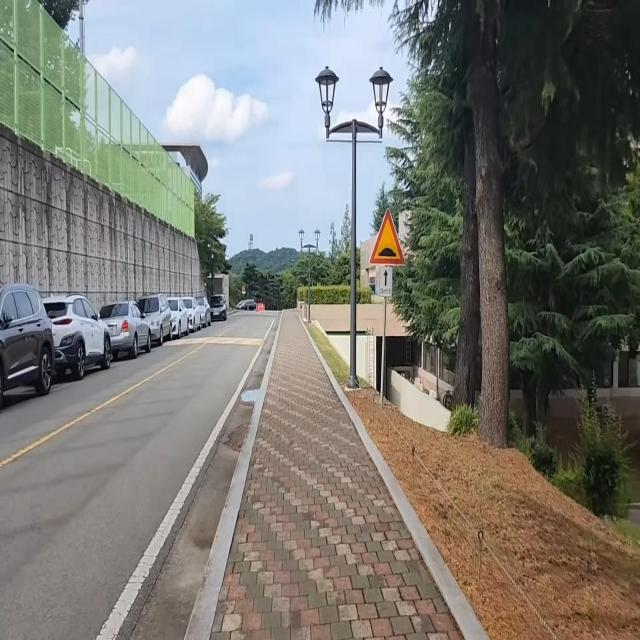obstacle: (312, 56, 395, 391)
road: (0, 314, 279, 640)
sidewalk: (191, 308, 492, 640)
